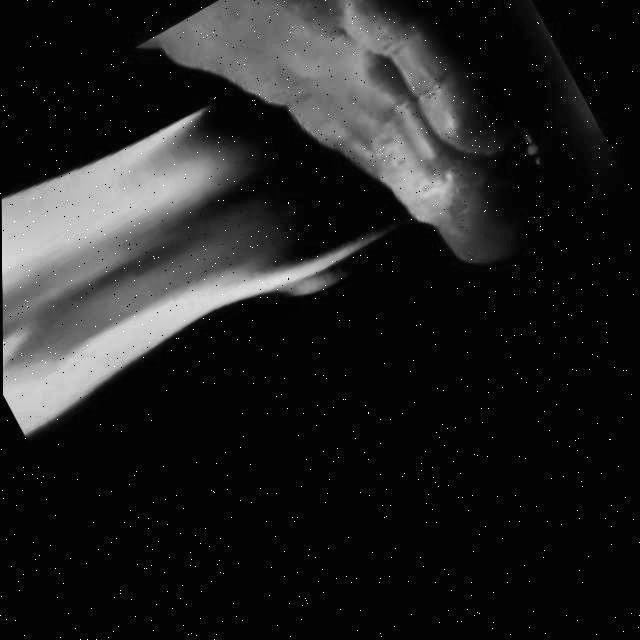Fire: (0, 0, 445, 467)
